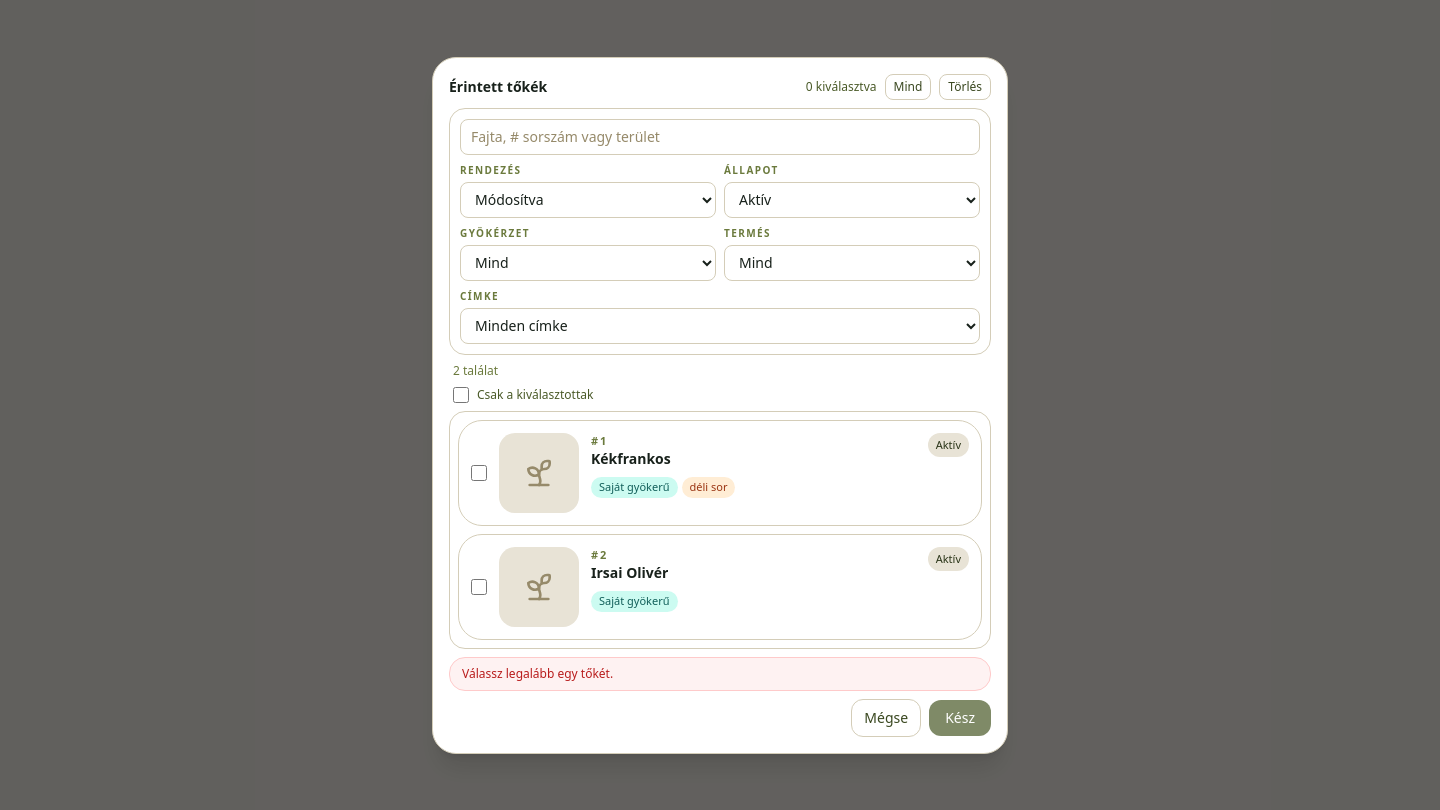
Test: VineTargetPickerDialog › üres találatnál üzenetet mutat, nem üres felületet
Type "nincs ilyen fajta" into the search field named "Keresés" at (720, 136), box [460, 118, 980, 154]
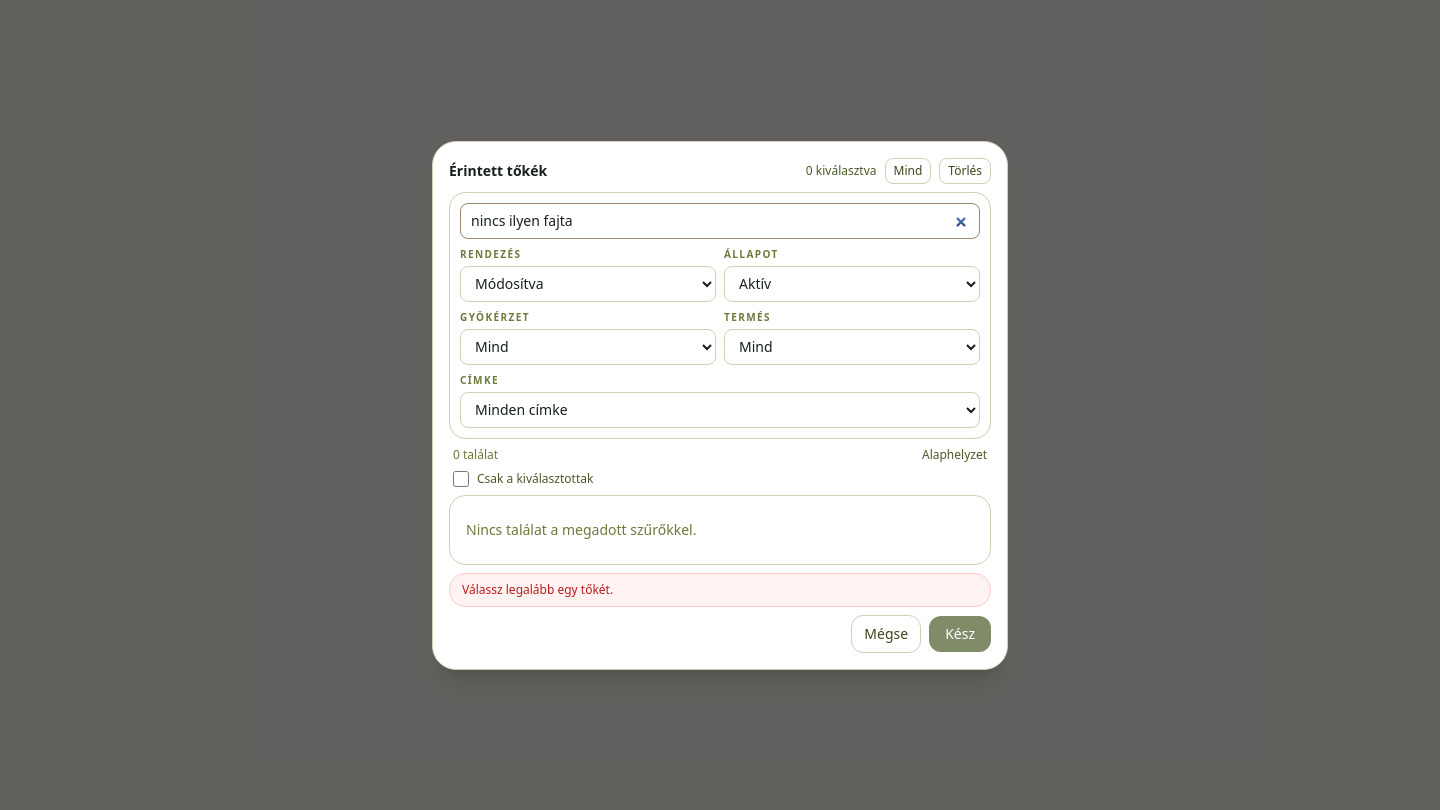
Now no labels with test id "vine-target-row" are shown
Now the message "Nincs találat a megadott szűrőkkel." is shown, box [466, 520, 696, 538]
